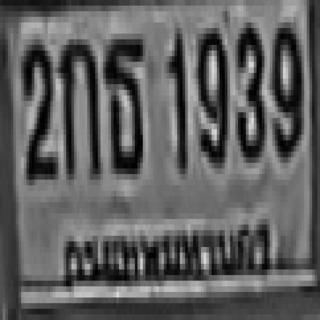A01: (58, 34, 98, 174)
A24: (103, 34, 143, 168)
N01: (166, 28, 185, 168)
N02: (20, 37, 54, 177)
N03: (234, 17, 263, 157)
N09: (196, 23, 225, 163), (270, 17, 299, 157)
P04: (60, 218, 275, 281)
